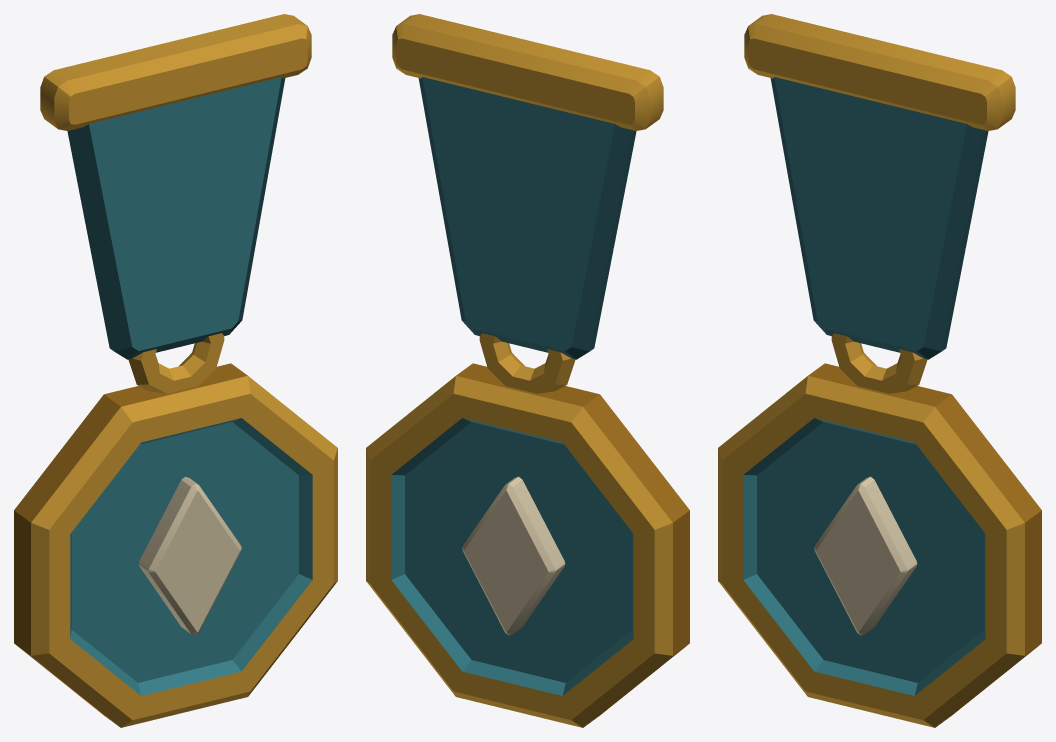
File: Medal_11.glb
3 views of the same model, side by side, from view 1: azimuth 30°, elevation 25°; view 2: azimuth 150°, elevation 25°; view 3: azimuth 330°, elevation 25° (orthographic).
Visible parts, largest first — view 1: Medal_11; view 2: Medal_11; view 3: Medal_11.
Part boxes in pixels (x1,y1,x2,y2): Medal_11: (14,14,337,727); Medal_11: (366,14,689,727); Medal_11: (718,14,1041,727).
Size of the model in its own units: 1.14 by 2.34 by 0.28.
